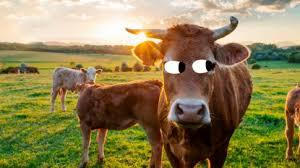cow: (132, 26, 253, 168), (76, 82, 165, 168), (50, 66, 101, 112), (285, 82, 300, 159), (26, 65, 39, 74)
